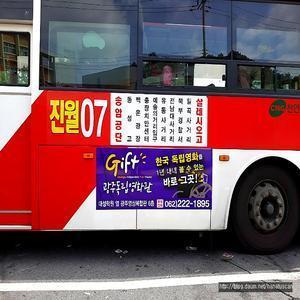07bus: (6, 1, 295, 262)
backdoor: (1, 8, 43, 219)
